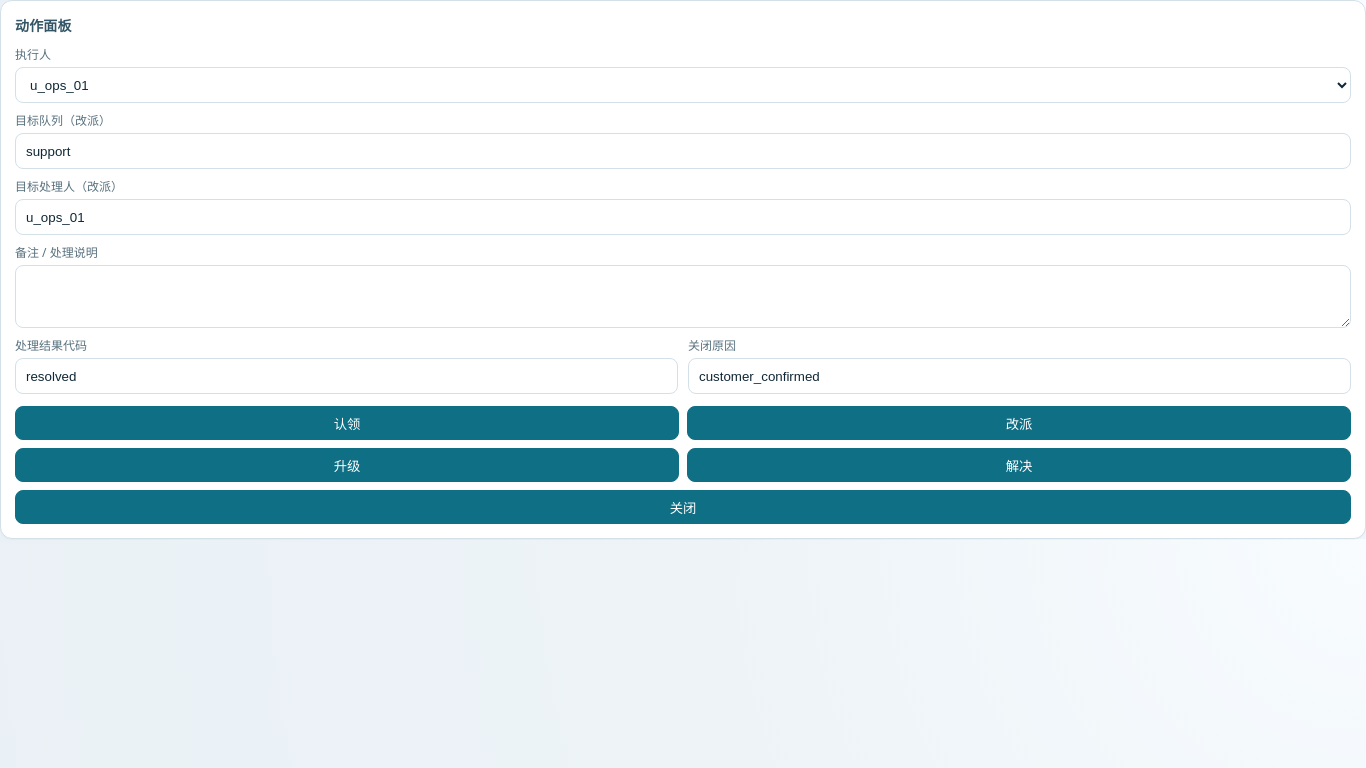
TicketActionsPanel › shows success feedback after a successful action
Click the button "认领": click(347, 423) 15,406 -> 679,440
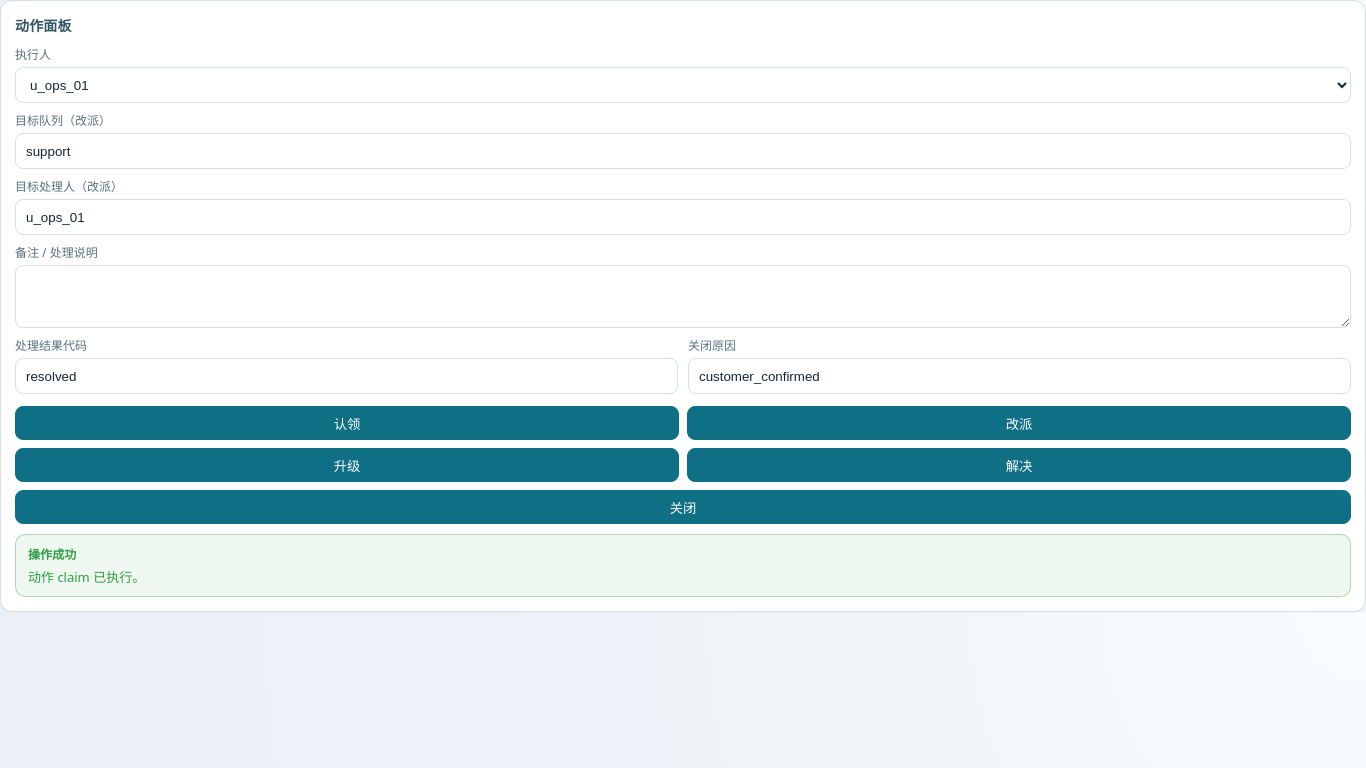
Result: the text "动作 claim 已执行。" is shown at 28,568 -> 145,586
